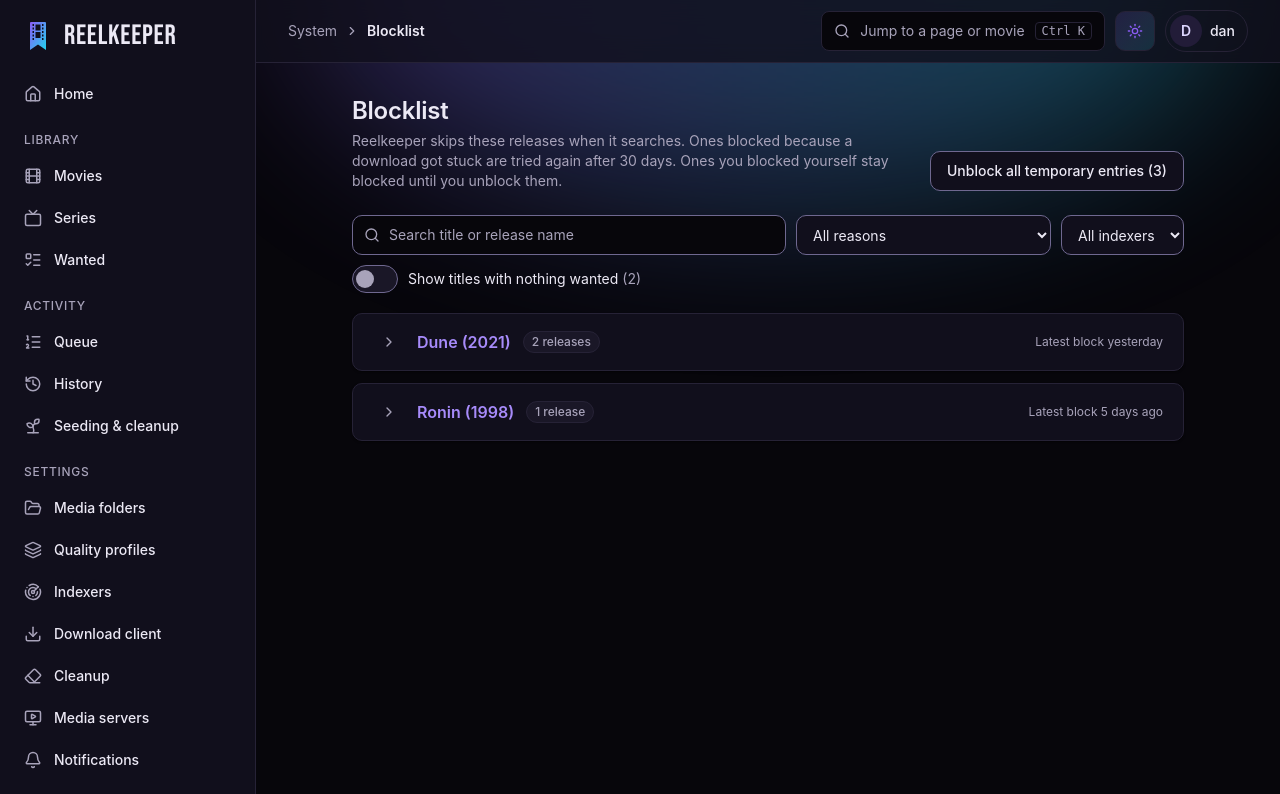
Scenario: blocklist page › groups releases by title, collapsed, newest first
The width and height of the screenshot is (1280, 794).
Check: the text "Dune.2021.CAM-FAKE" is not shown
Check: the text "2 releases" is shown, box [523,331,600,353]
Click the button named "Show blocked releases for Dune (2021)": (389, 342) [373,326,405,358]
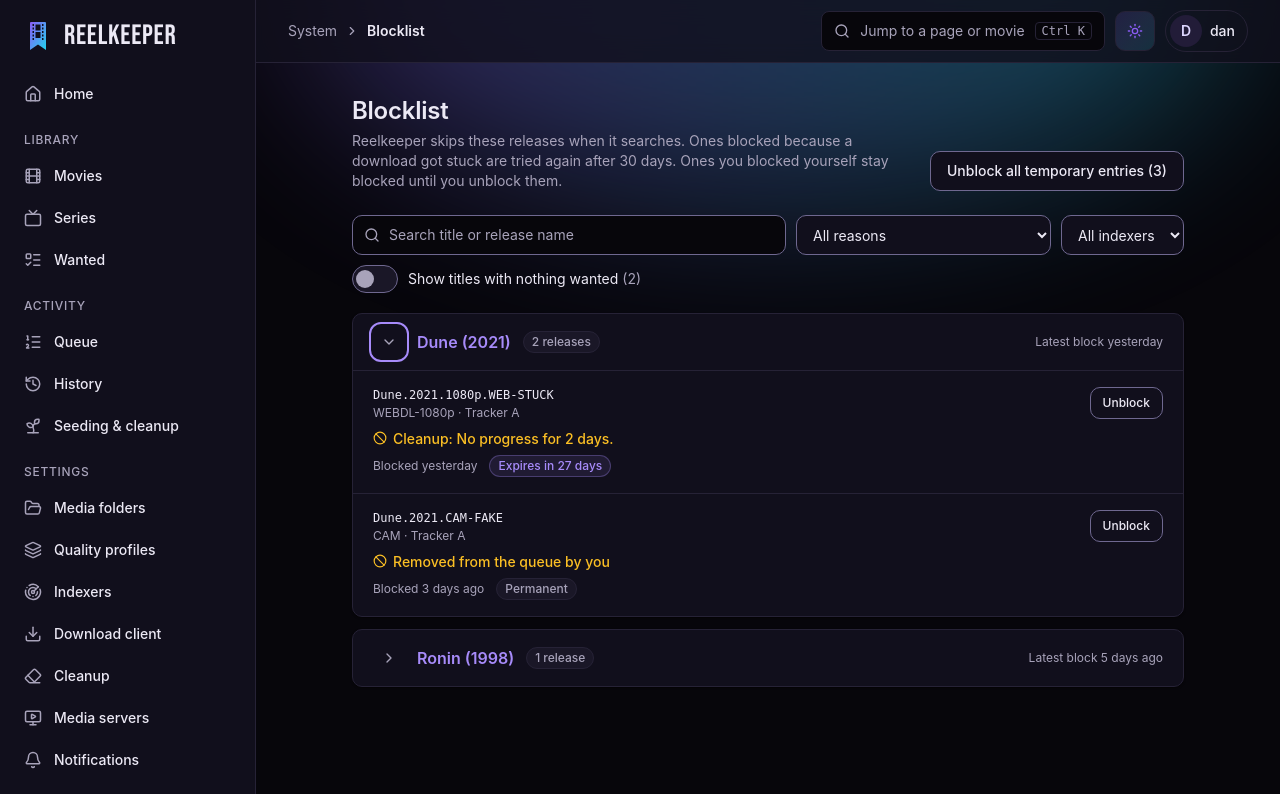
Check: the text "Dune.2021.CAM-FAKE" is shown, box [373,511,503,525]
Check: the text "Dune.2021.1080p.WEB-STUCK" is shown, box [373,388,554,402]
Check: the text "Permanent" is shown, box [496,578,577,600]
